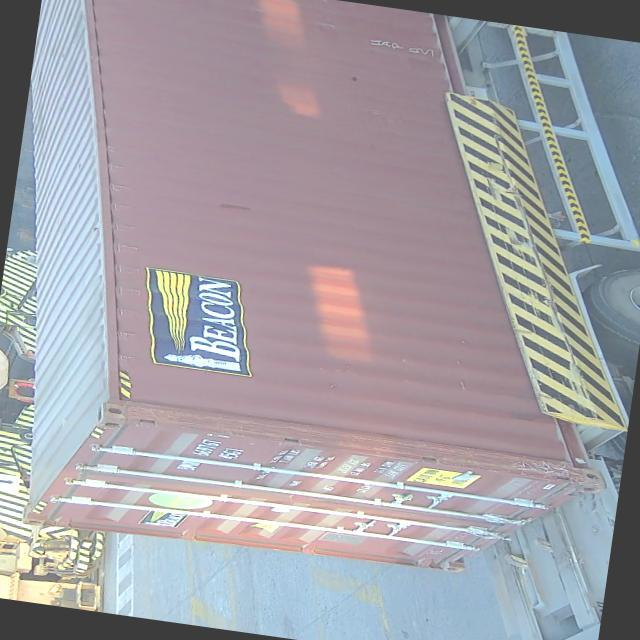hole: (333, 67, 374, 94)
rust: (199, 408, 500, 479)
